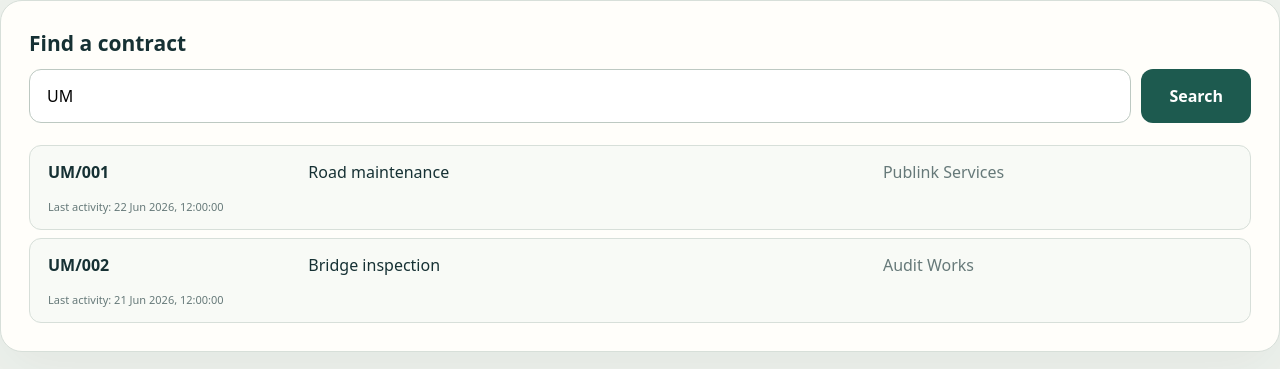
SearchPanel › collapses results to the selected contract and expands them again
Expected: the text "UM/001" is shown, [48,161,109,183]
Expected: the text "UM/002" is shown, [48,254,109,276]
Click the button "UM/001".
click(79, 172)  # box [29,145,1251,230]
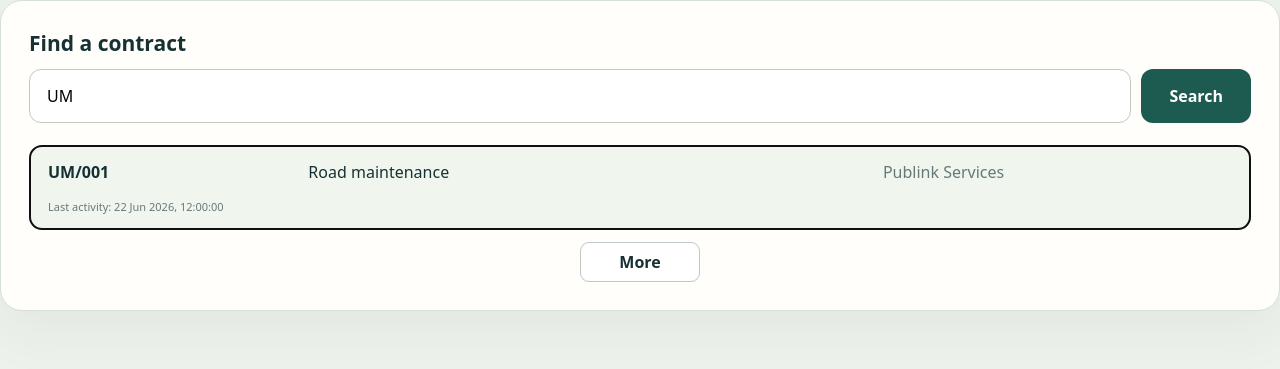
Expected: the text "UM/001" is shown, [48,161,109,183]
Result: the button "UM/002" is gone
Click the button "More".
click(640, 262)  # box [580,242,700,282]
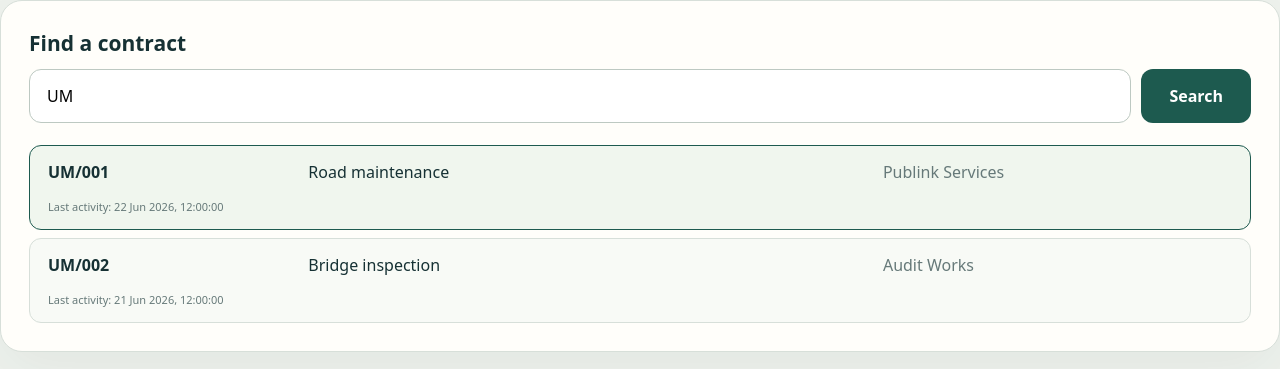
Expected: the text "UM/001" is shown, [48,161,109,183]
Result: the text "UM/002" is shown at [48,254,109,276]
